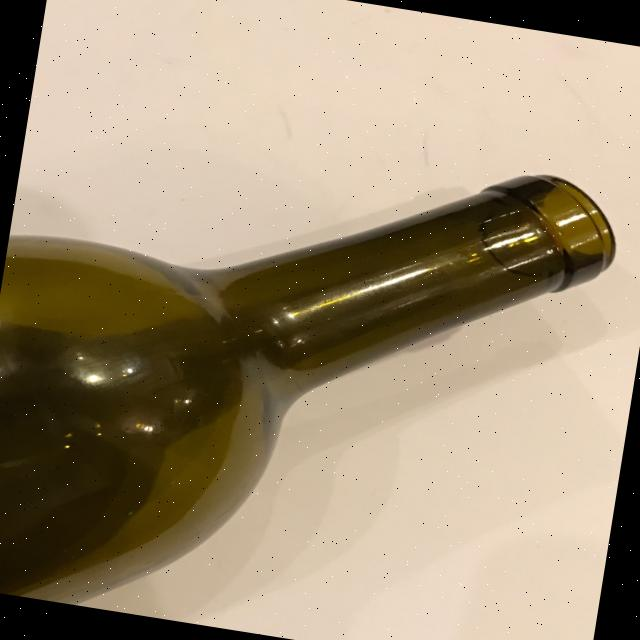glass: (0, 91, 626, 640)
